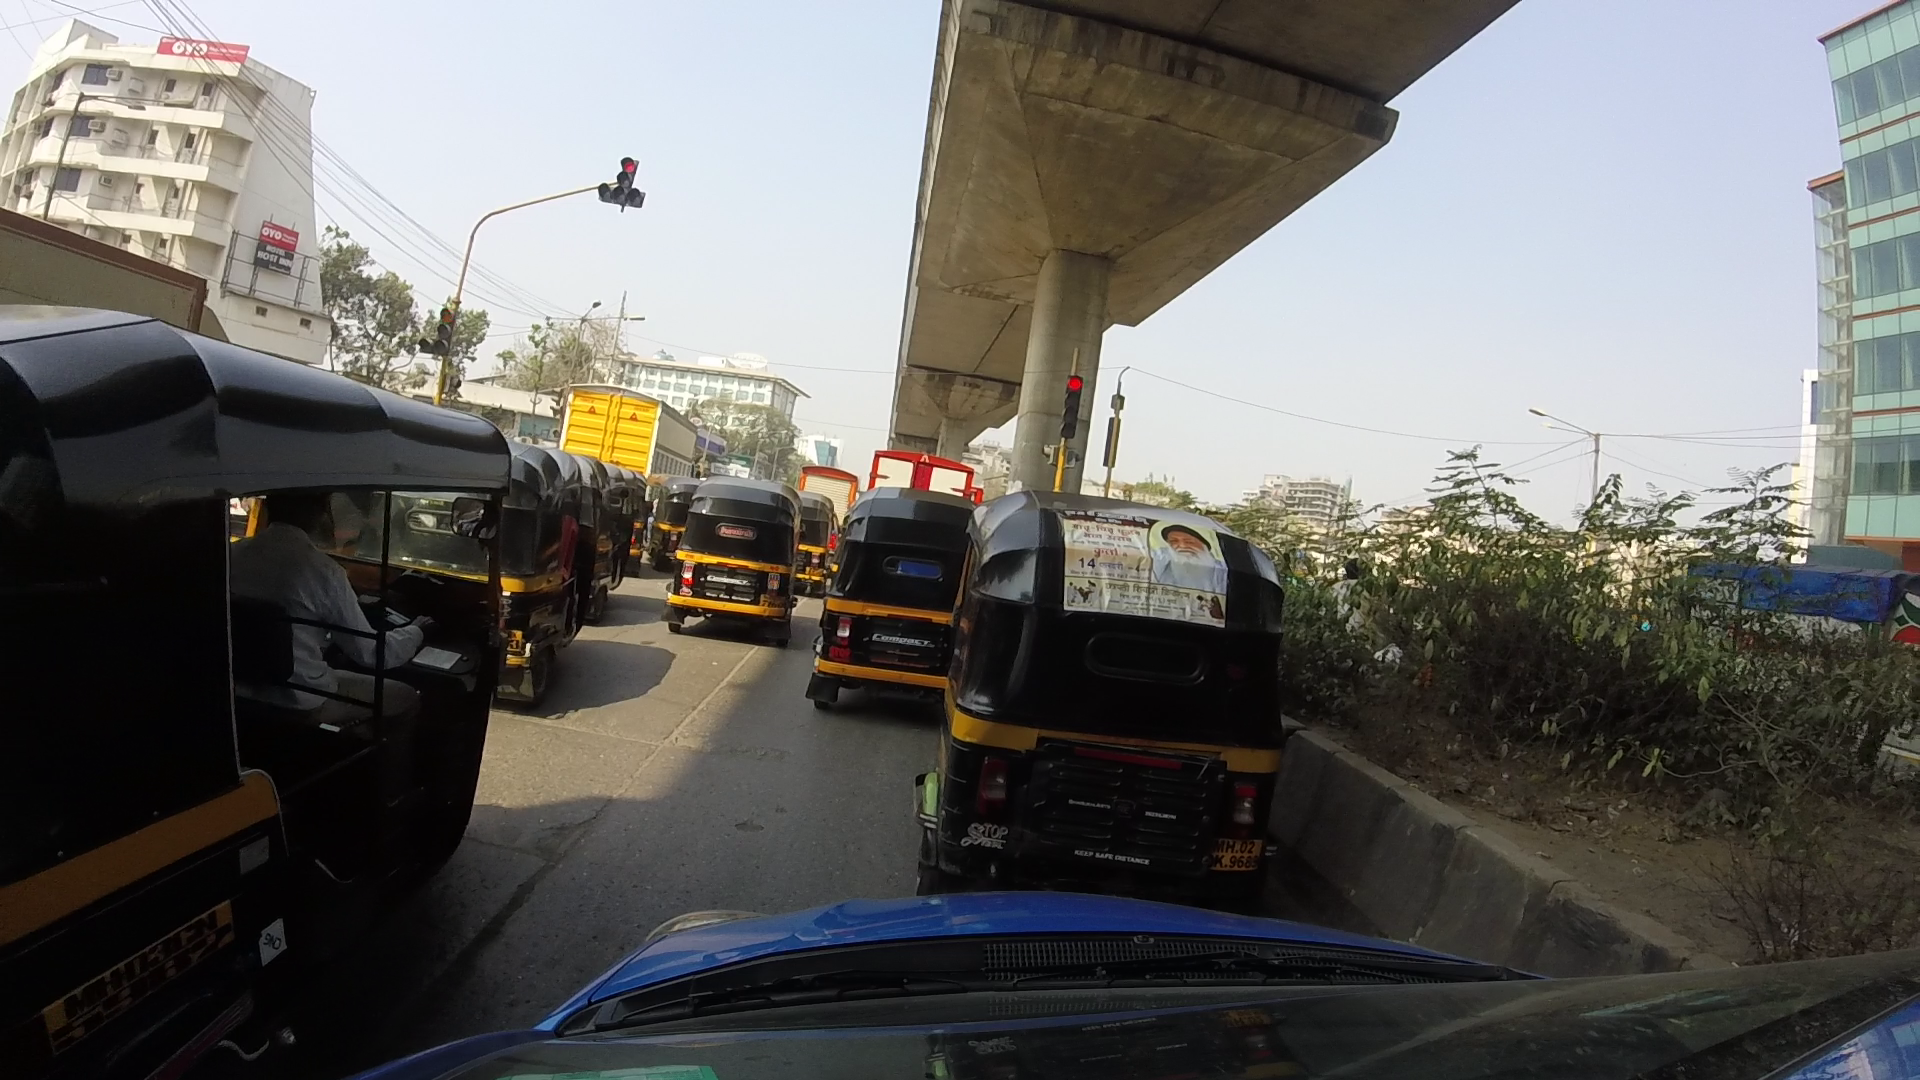rickshaw: (5, 295, 477, 1022), (945, 495, 1287, 884), (816, 487, 978, 707), (462, 448, 575, 713), (663, 477, 796, 630)
